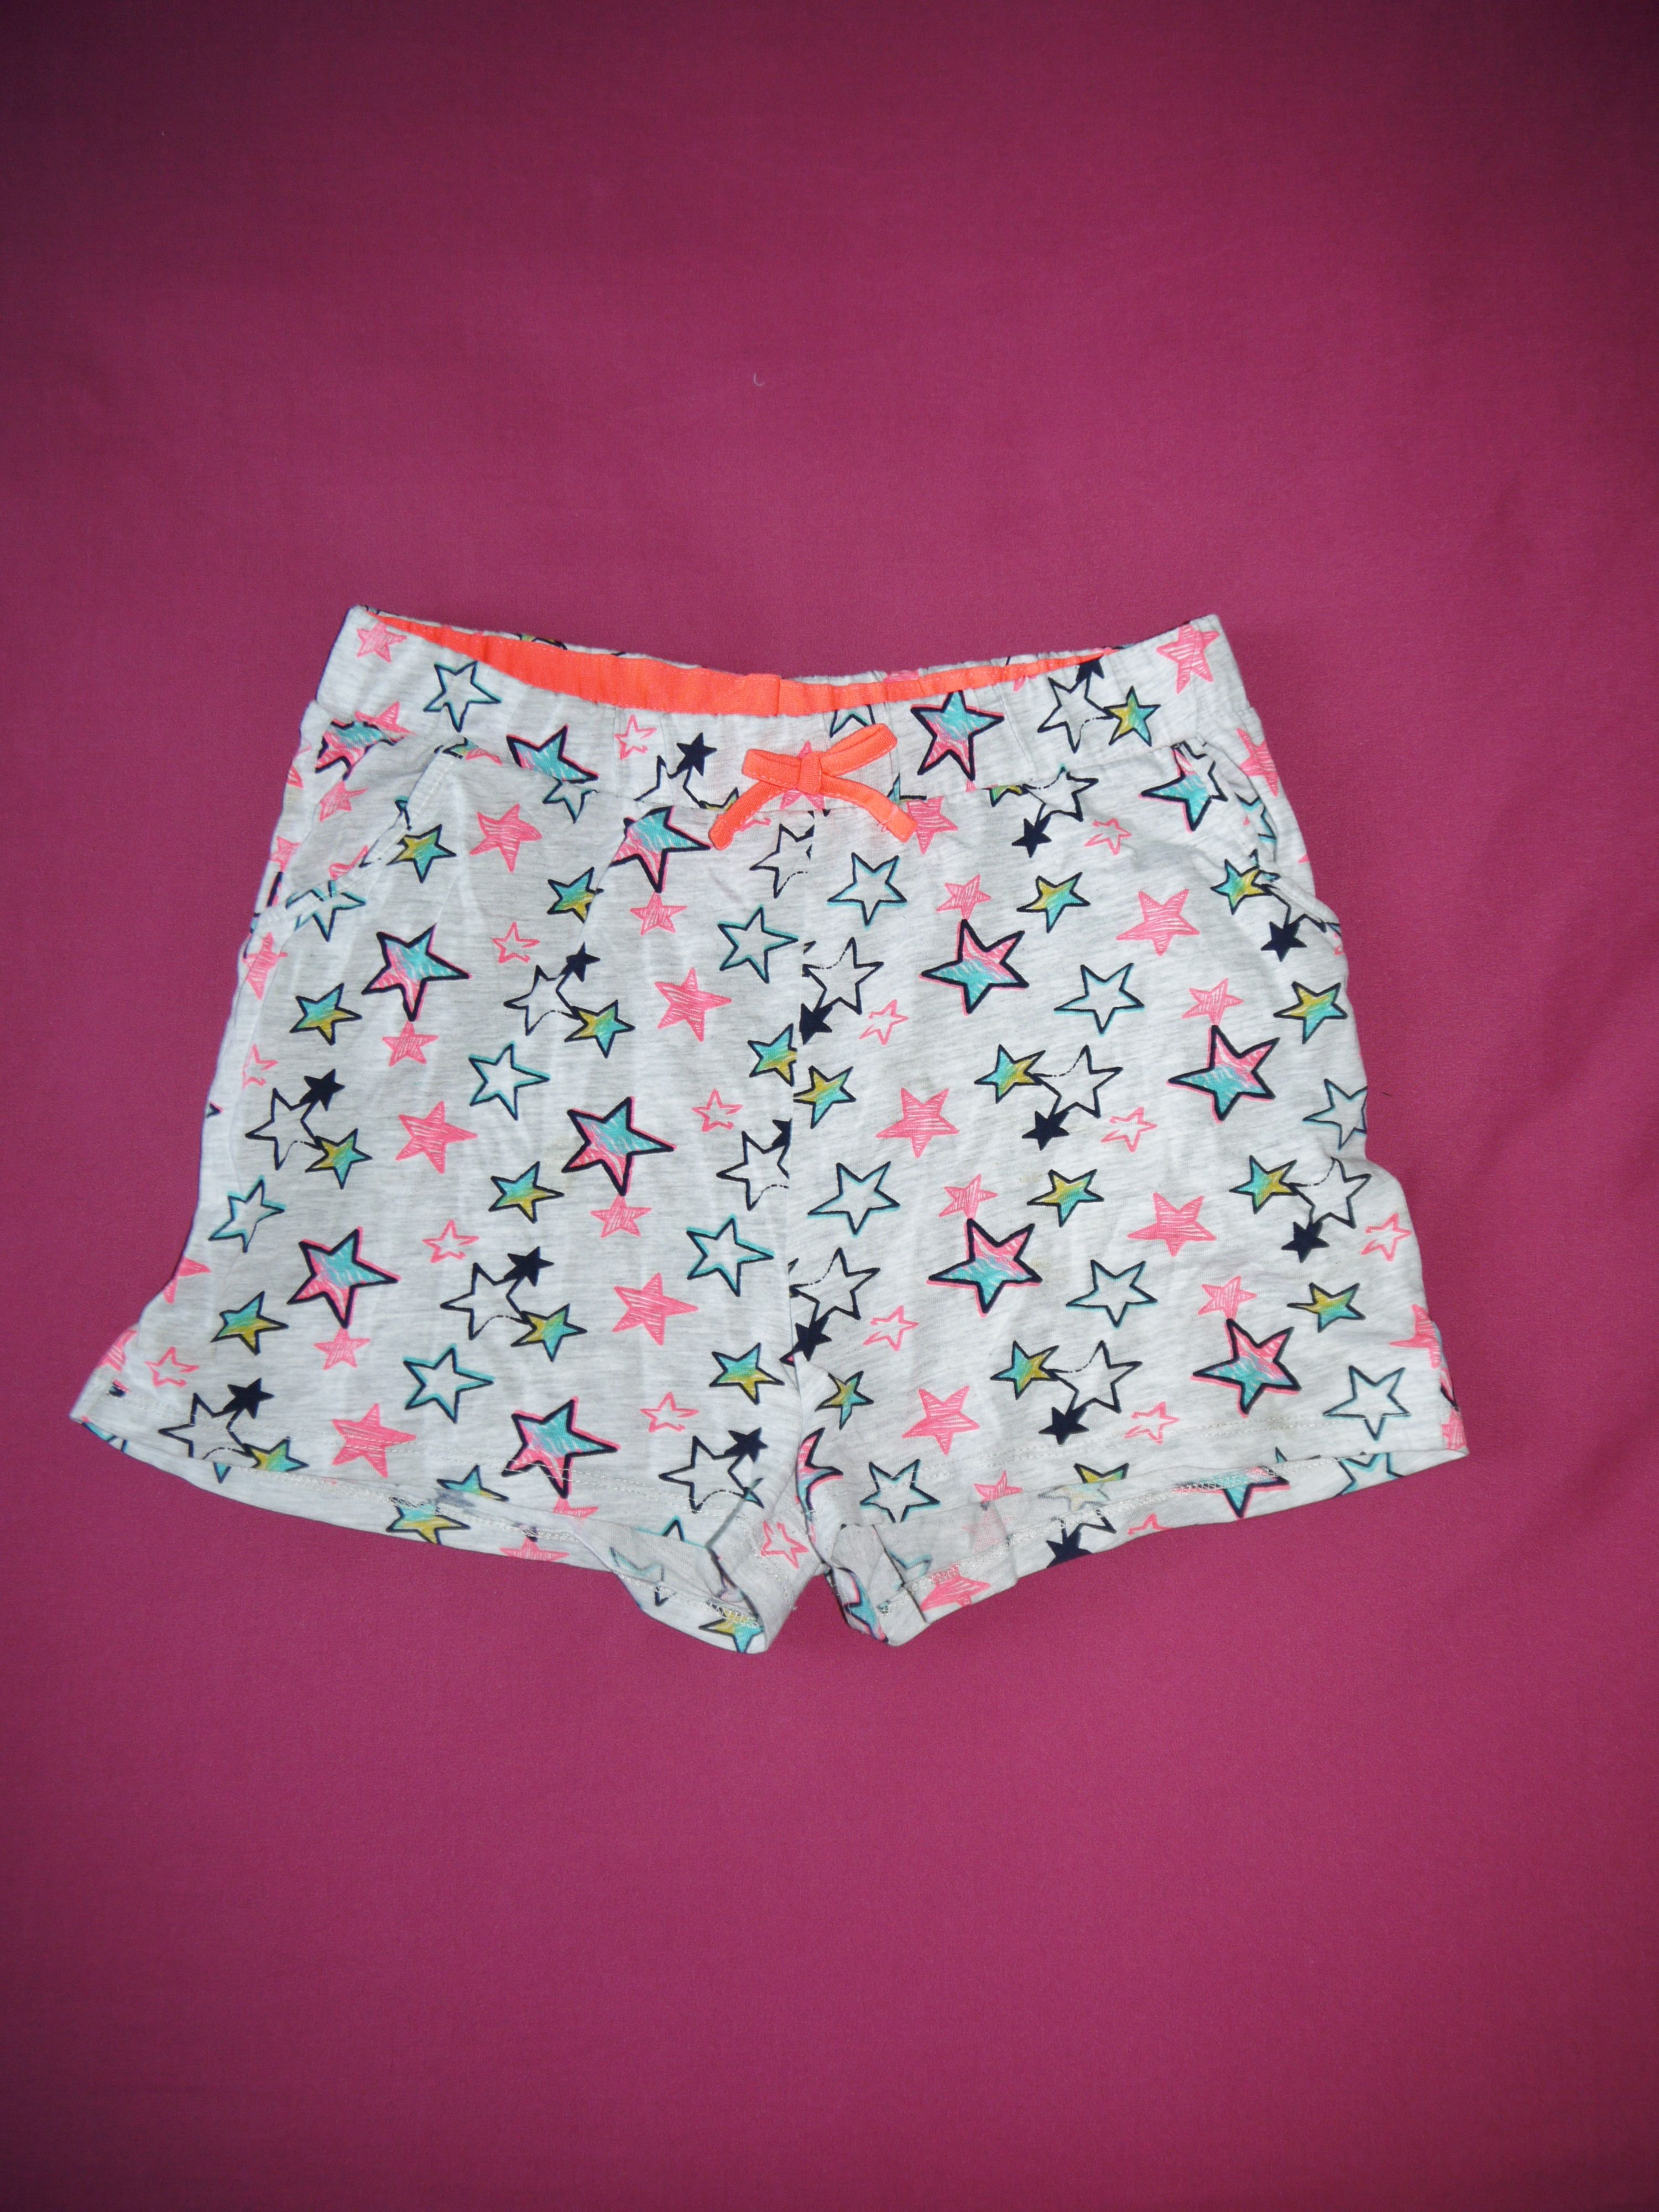clothes: (91, 594, 1492, 1630)
